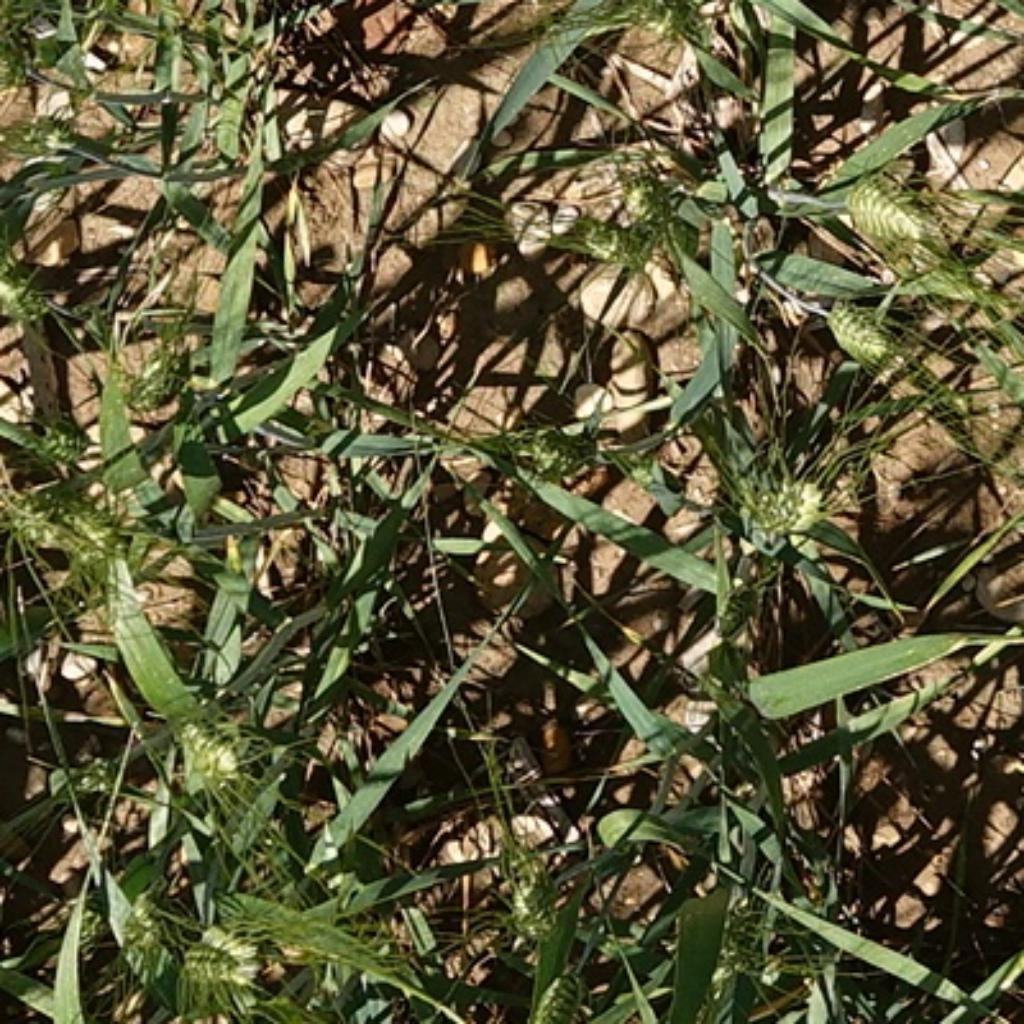0-0: (583, 166, 702, 280), (7, 484, 135, 580), (156, 913, 266, 1024), (486, 821, 576, 952), (87, 312, 189, 414), (486, 407, 609, 486), (832, 166, 942, 250), (586, 0, 732, 63), (709, 875, 788, 990), (737, 461, 837, 545), (161, 708, 245, 800), (875, 238, 990, 304), (821, 299, 896, 368), (524, 954, 599, 1018), (1, 262, 47, 334)
